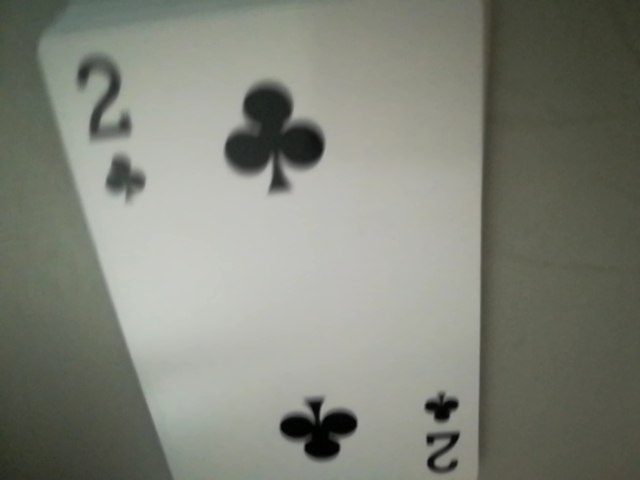mh 2: (58, 33, 153, 218), (415, 384, 470, 480)
